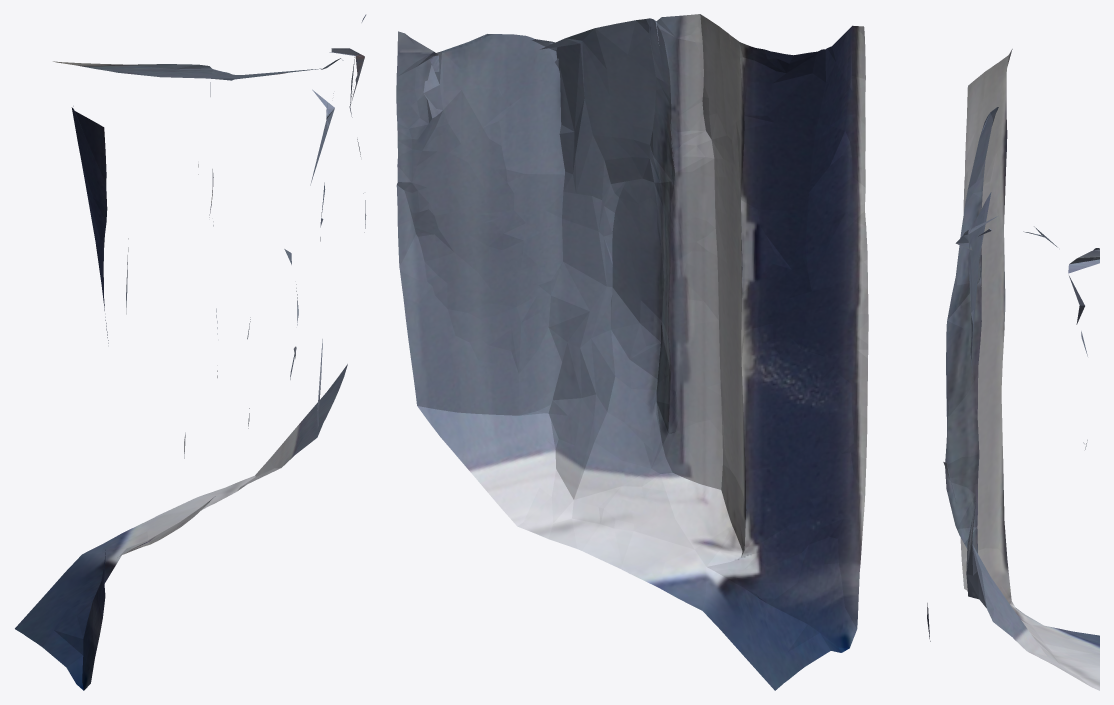
The picture shows the model from 3 angles, left to right: view 1: azimuth 30°, elevation 25°; view 2: azimuth 150°, elevation 25°; view 3: azimuth 270°, elevation 25°; orthographic projection. The views are drawn at different scales.
Size of the model in its own units: 1.01 by 1.56 by 0.4311.
Materials: 1 (1 with a texture image).
